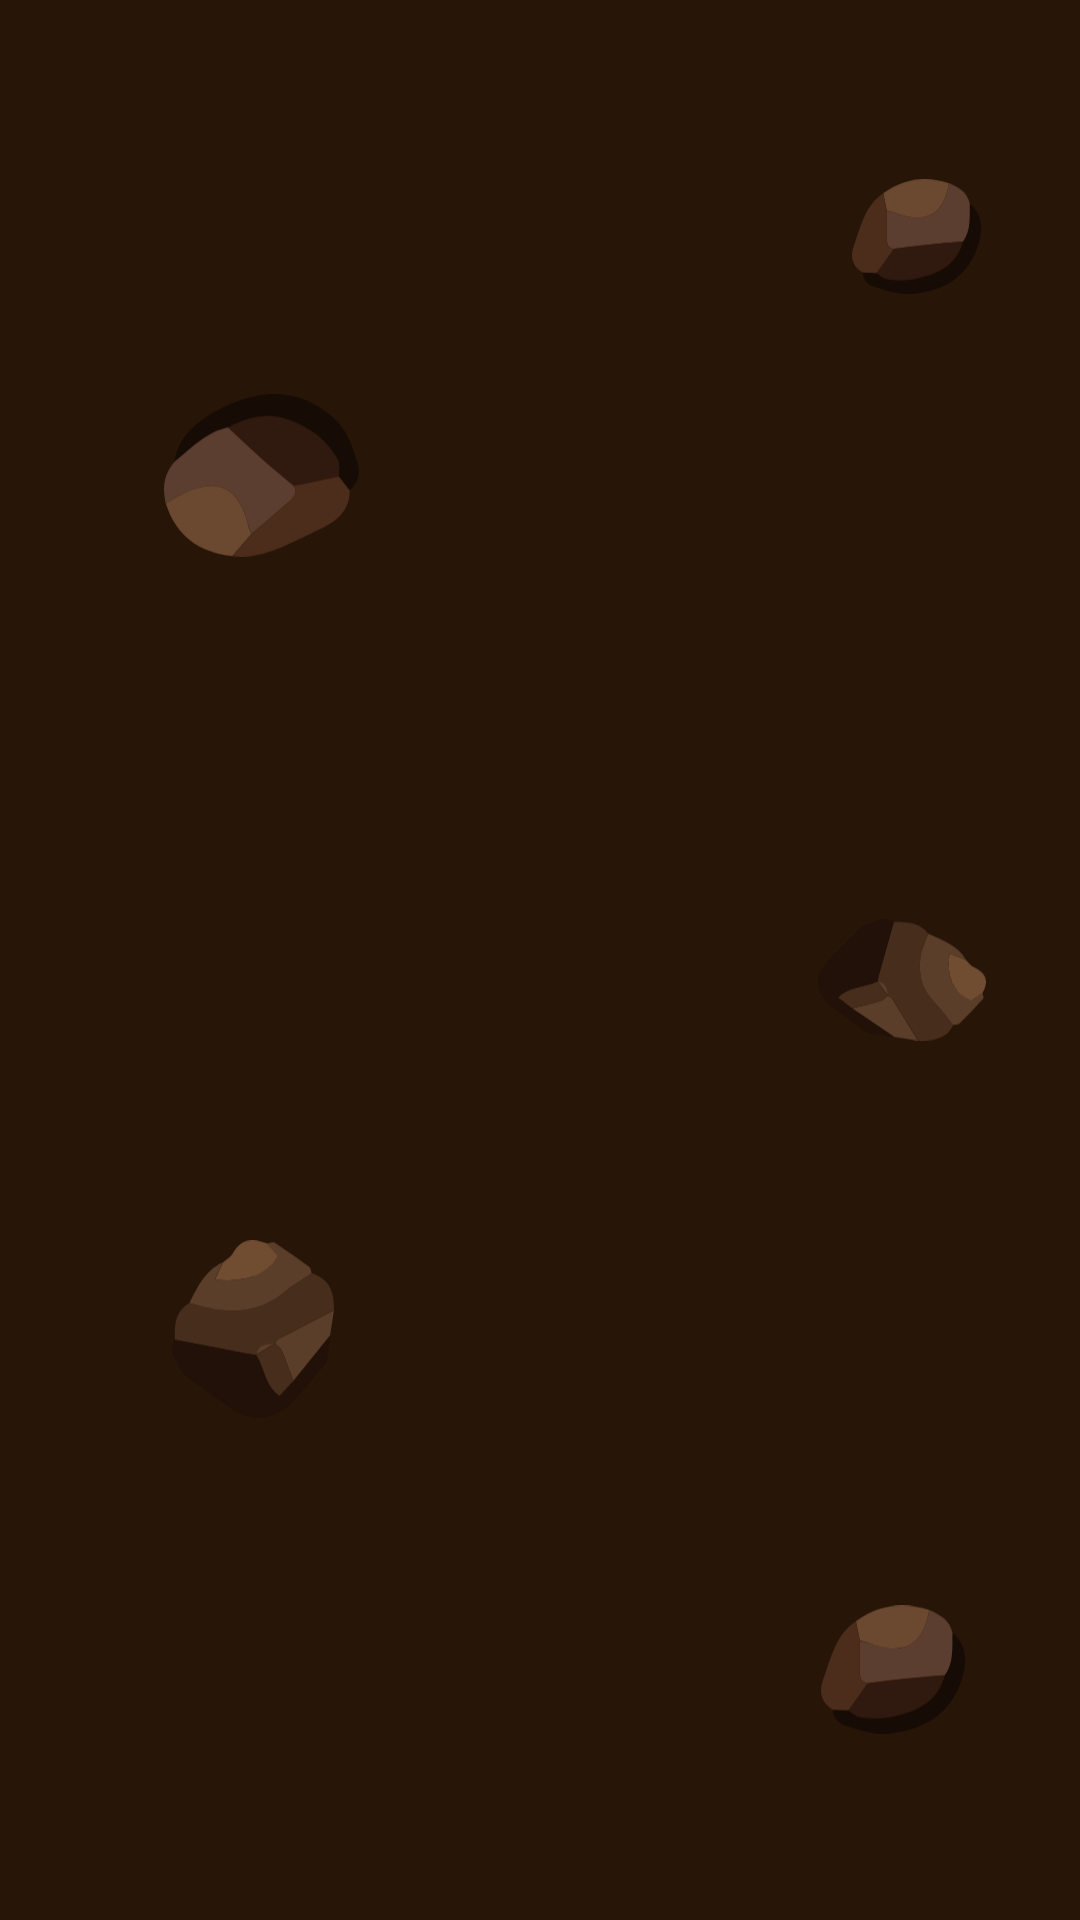

Point at icon controls on the screen. Image size 1080x1920, points as (x,y).
stone: (911,226), (256,492), (912,981), (254,1317), (886,1657)
